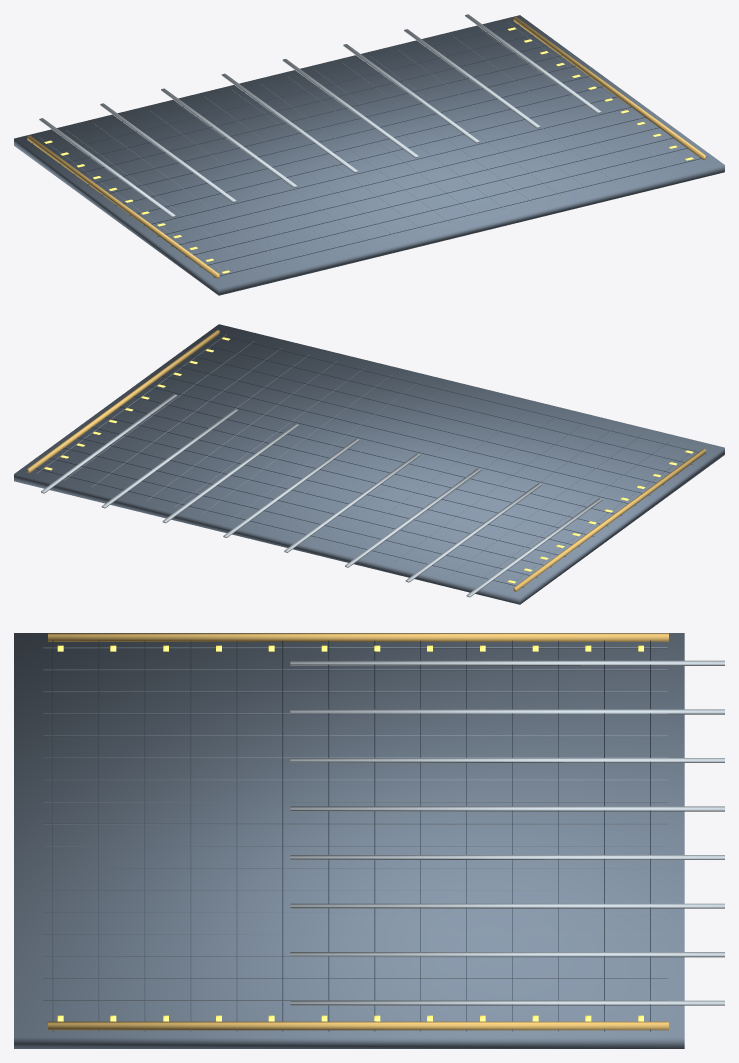
Rendered from 00_L88_HabitatAtmosphereQualificationArenaBase.fbx.
3 views of the same model, one above another, from view 1: azimuth 30°, elevation 25°; view 2: azimuth 150°, elevation 25°; view 3: azimuth 270°, elevation 25° (orthographic). The views are drawn at different scales.
Visible parts, largest first — view 1: L87_HabitatAtmosphereQualific_Part_0000, L87_HabitatAtmosphereQualific_Part_0002, L87_HabitatAtmosphereQualific_Part_0006, L87_HabitatAtmosphereQualific_Part_0001, L87_HabitatAtmosphereQualific_Part_0003; view 2: L87_HabitatAtmosphereQualific_Part_0000, L87_HabitatAtmosphereQualific_Part_0002, L87_HabitatAtmosphereQualific_Part_0006, L87_HabitatAtmosphereQualific_Part_0001, L87_HabitatAtmosphereQualific_Part_0003; view 3: L87_HabitatAtmosphereQualific_Part_0000, L87_HabitatAtmosphereQualific_Part_0006, L87_HabitatAtmosphereQualific_Part_0001, L87_HabitatAtmosphereQualific_Part_0003, L87_HabitatAtmosphereQualific_Part_0002, L87_HabitatAtmosphereQualific_Part_0004.
Part boxes in pixels (x1=…): L87_HabitatAtmosphereQualific_Part_0000: x1=14, y1=15, x2=724, y2=295; L87_HabitatAtmosphereQualific_Part_0002: x1=31, y1=24, x2=706, y2=277; L87_HabitatAtmosphereQualific_Part_0006: x1=39, y1=14, x2=601, y2=217; L87_HabitatAtmosphereQualific_Part_0001: x1=39, y1=22, x2=698, y2=276; L87_HabitatAtmosphereQualific_Part_0003: x1=27, y1=17, x2=705, y2=278; L87_HabitatAtmosphereQualific_Part_0000: x1=14, y1=324, x2=724, y2=604; L87_HabitatAtmosphereQualific_Part_0002: x1=35, y1=334, x2=706, y2=587; L87_HabitatAtmosphereQualific_Part_0006: x1=41, y1=394, x2=602, y2=597; L87_HabitatAtmosphereQualific_Part_0001: x1=36, y1=334, x2=695, y2=588; L87_HabitatAtmosphereQualific_Part_0003: x1=27, y1=330, x2=705, y2=591; L87_HabitatAtmosphereQualific_Part_0000: x1=14, y1=633, x2=684, y2=1048; L87_HabitatAtmosphereQualific_Part_0006: x1=290, y1=660, x2=724, y2=1005; L87_HabitatAtmosphereQualific_Part_0001: x1=43, y1=647, x2=667, y2=1022; L87_HabitatAtmosphereQualific_Part_0003: x1=48, y1=633, x2=668, y2=1030; L87_HabitatAtmosphereQualific_Part_0002: x1=52, y1=640, x2=650, y2=1031; L87_HabitatAtmosphereQualific_Part_0004: x1=57, y1=645, x2=643, y2=1021.
Size of the model in its own units: 30.8 by 0.65 by 22.9.
